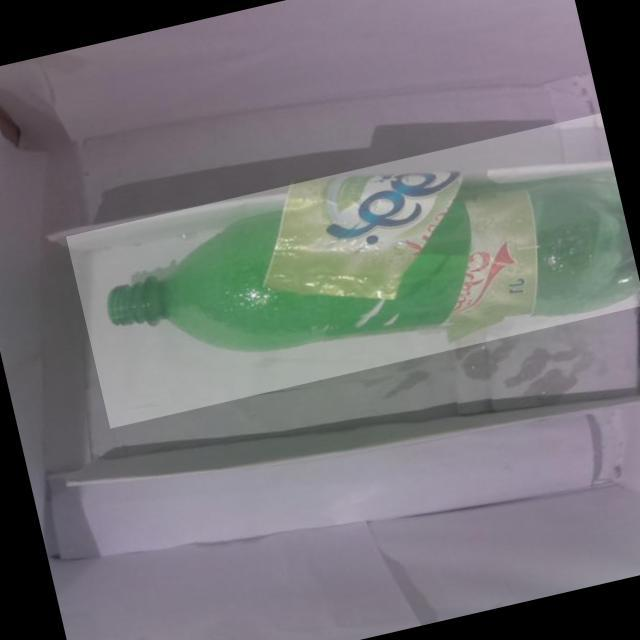good: (64, 111, 640, 427)
